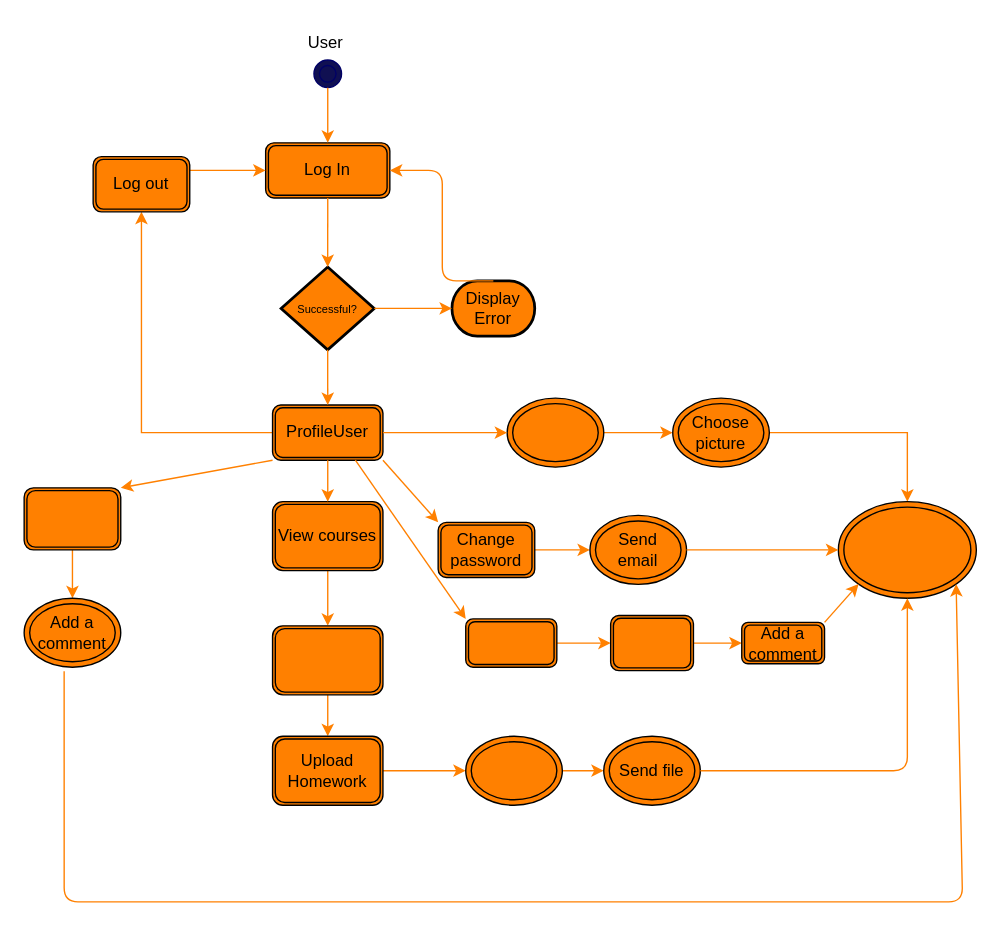
The diagram is 1001 pixels wide and 937 high, and some of its shapes have lost their labels. The box of each missing label's shape, as (x1, y1, x2, y2) in pixels:
Add file: (464, 735, 562, 805)
Change the profile picture: (506, 397, 604, 467)
Global Chat: (23, 486, 121, 550)
Pick a teacher: (609, 614, 693, 671)
Private comment: (464, 618, 557, 667)
Update specific tables from the database: (837, 500, 976, 598)
View details of a specific cours: (271, 624, 383, 695)
